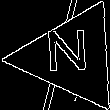N_S: (47, 30, 96, 83)
